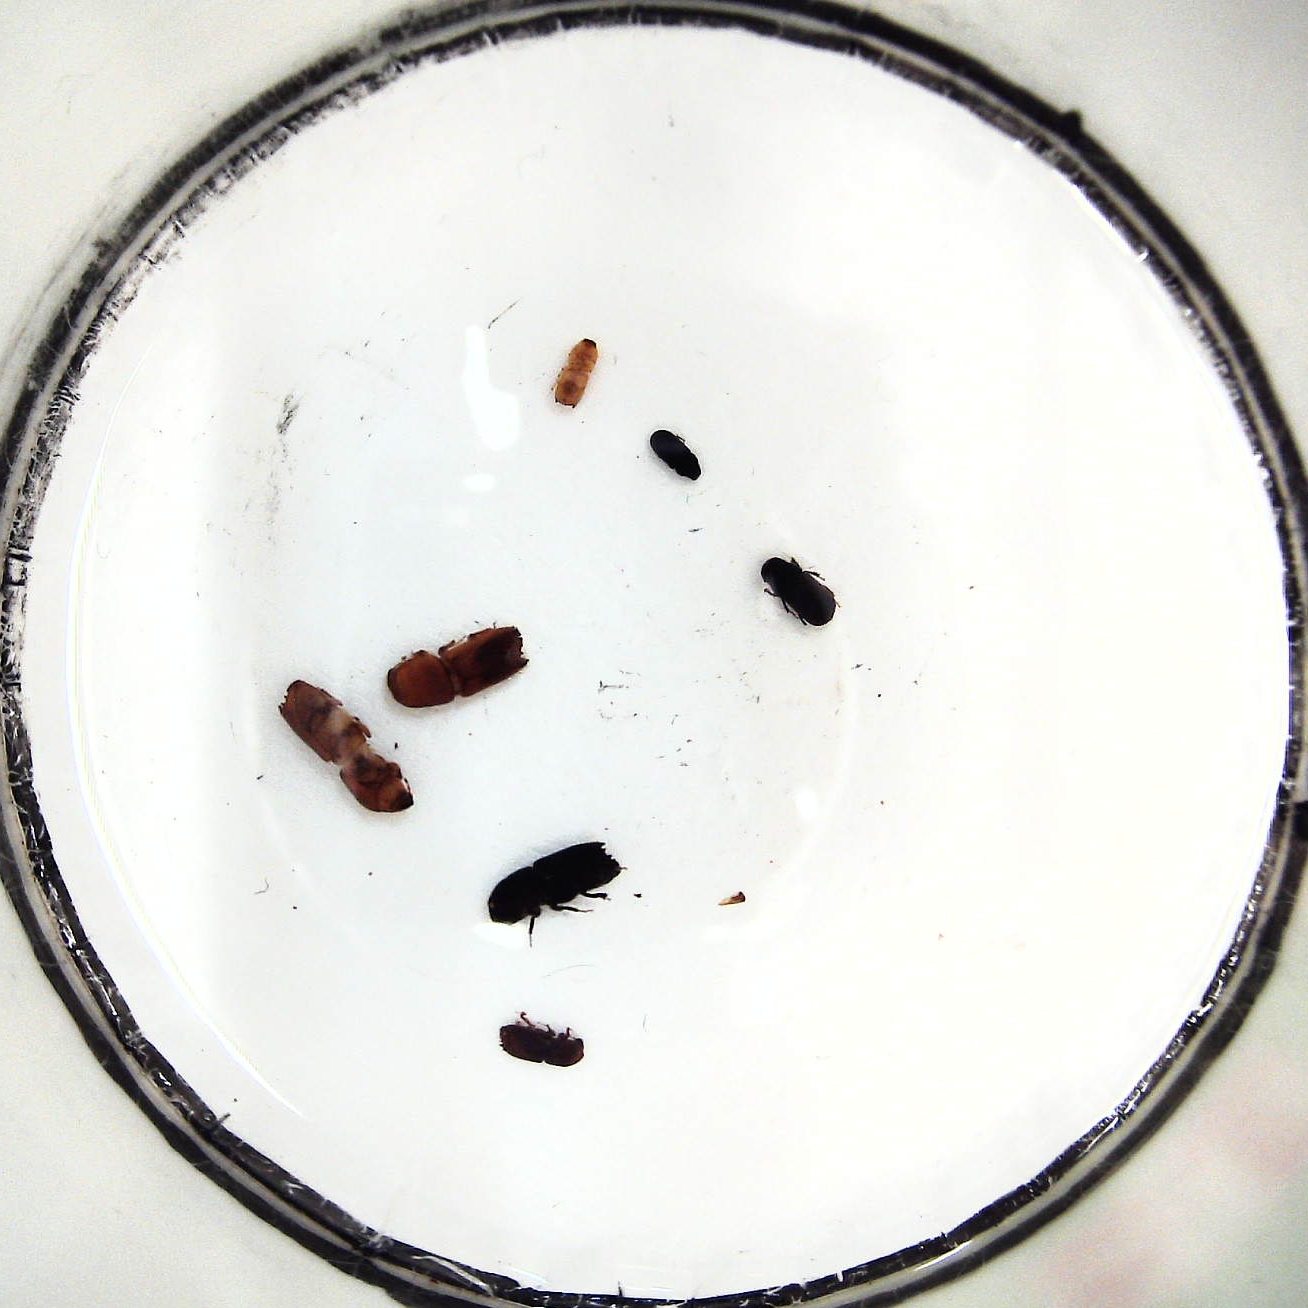Boerner: (273, 678, 406, 819), (384, 619, 529, 709), (484, 840, 617, 927)
Linnaeus: (493, 1009, 588, 1067)
acuminatus: (549, 337, 599, 414)
armandi: (759, 552, 835, 631)
coleoptera: (647, 426, 704, 480)
